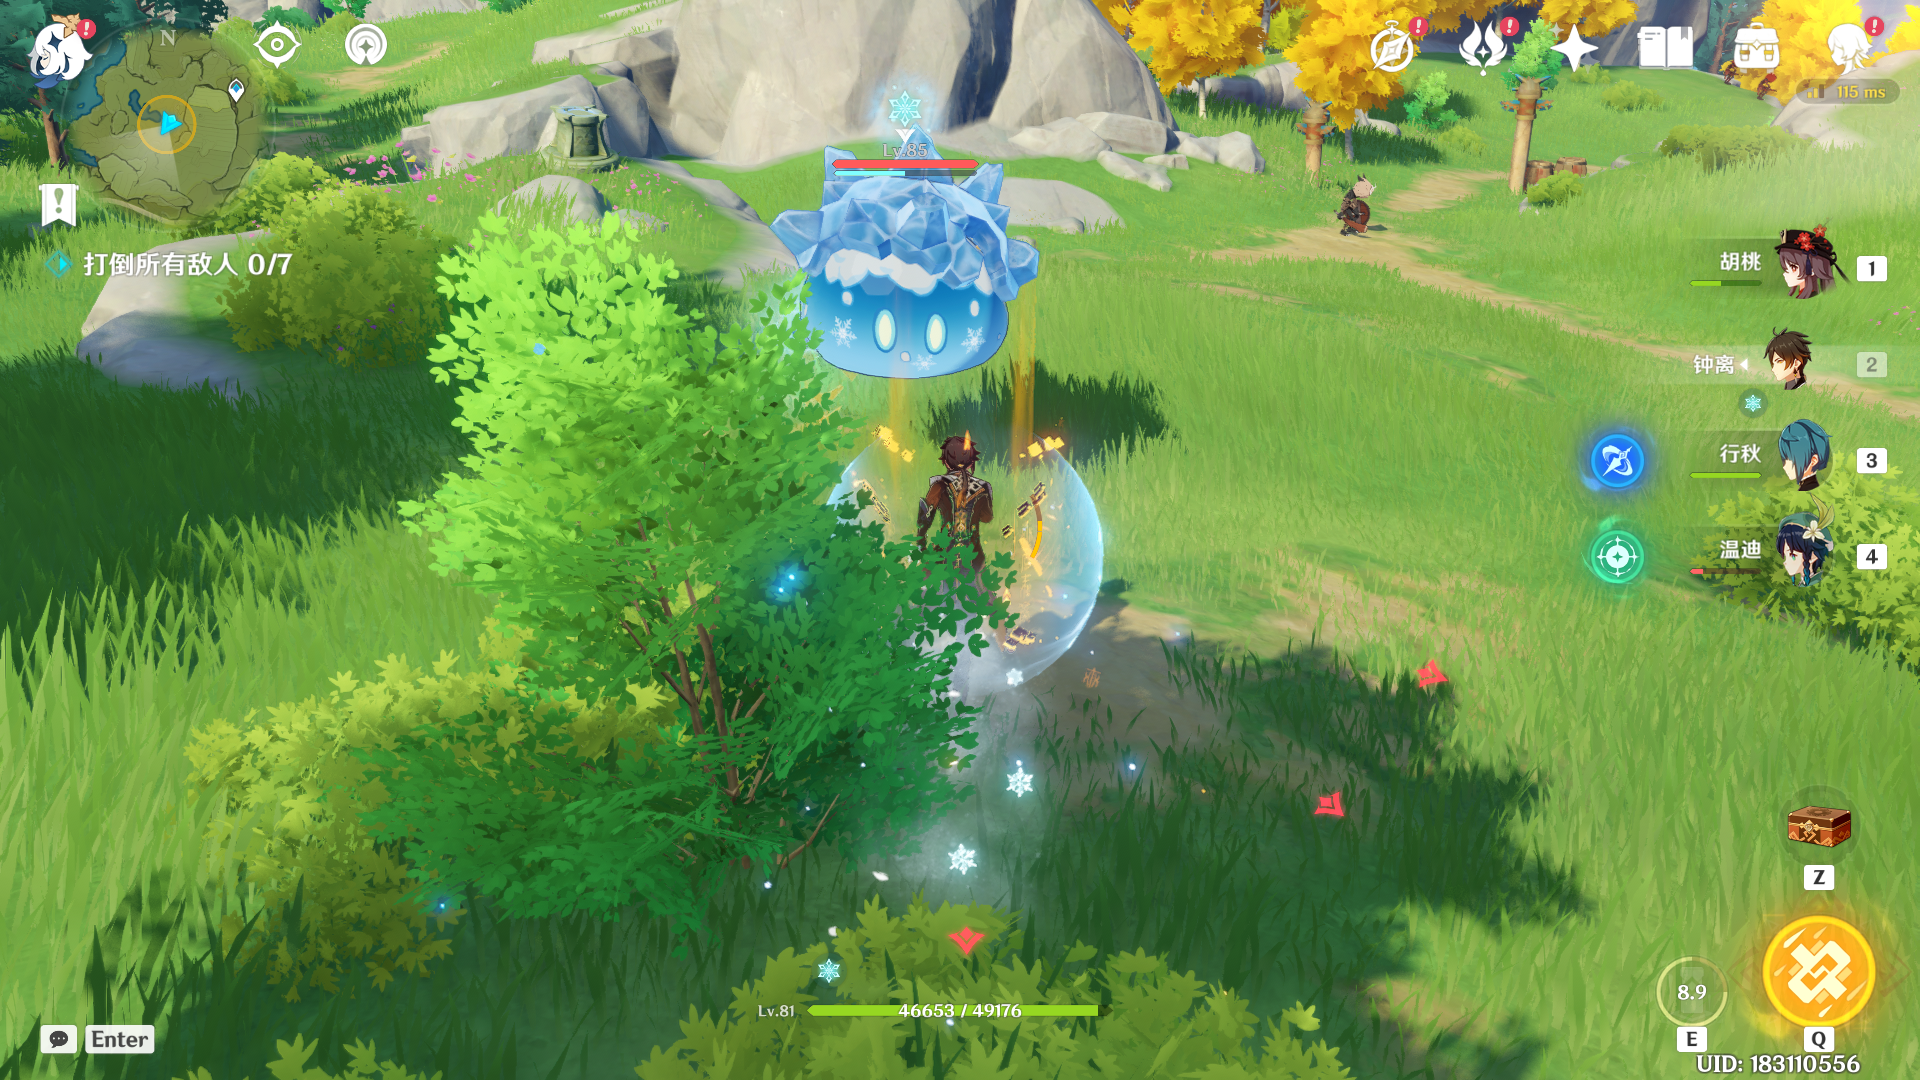character: (832, 405, 1087, 671)
hili: (1316, 152, 1389, 262)
slime: (746, 124, 1038, 385)
